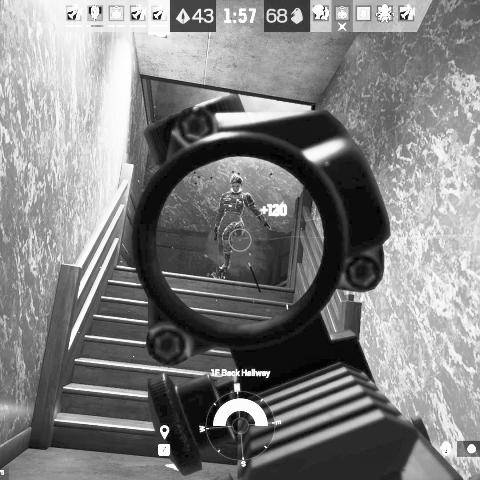Character: (208, 172, 274, 281)
Head: (228, 173, 244, 194)
